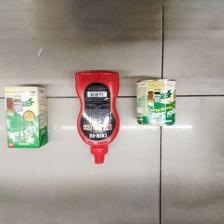Chinsu: (74, 69, 121, 167)
NSPN_Hop: (4, 85, 50, 149)
NSPN_Lon: (134, 77, 178, 128)
